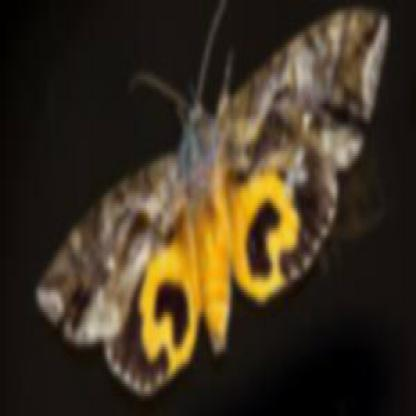fruit sucking moth: (33, 8, 388, 398)
